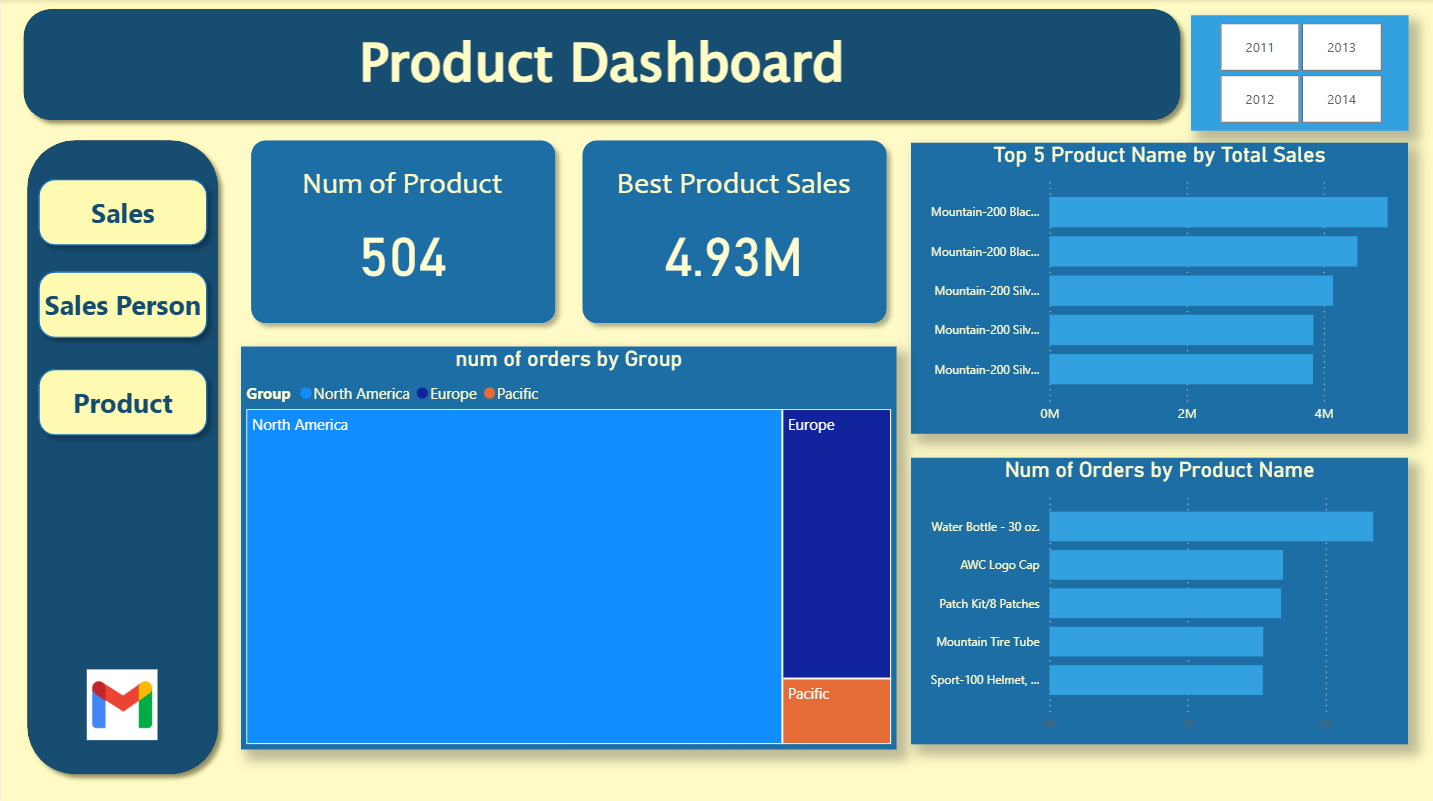

What the dashboard file says about the page in this screenshot:
{"tool":"powerbi","page":{"name":"Product","canvas":[1280,720],"ordinal":2},"visuals":[{"type":"shape","box":[11.4,0,1051.4,117.1],"z":0},{"type":"shape","box":[214.3,117.1,290,181.4],"z":0,"group":"g1"},{"type":"shape","box":[510,117.1,290,181.4],"z":0,"group":"g2"},{"type":"shape","box":[14.3,117.1,188.6,584.3],"z":1000},{"type":"slicer","fields":{"Values":["Date.Year"]},"box":[1062.9,14.3,194.3,102.9],"z":2000},{"type":"group","id":"g1","title":"Group 2","box":[214.3,117.1,290,181.4],"z":3000},{"type":"clusteredBarChart","title":"Top 5 Product Name by Total Sales","fields":{"Category":["vw_DIM_Product.ProductName"],"Y":["vw_Fact_OrderDetails.Total Sales"]},"box":[812.9,128.6,444.3,260],"z":4000},{"type":"group","id":"g2","title":"Group 2","box":[510,117.1,290,181.4],"z":5000},{"type":"treemap","fields":{"Group":["vw_DIM_Territory.Group","vw_DIM_SalesPerson.TerritoryName"],"Values":["vw_Fact_OrderDetails.num of orders"]},"box":[214.3,310,585.7,360],"z":6000},{"type":"clusteredBarChart","title":"Num of Orders by Product Name","fields":{"Category":["vw_DIM_Product.ProductName"],"Y":["vw_Fact_OrderDetails.num of orders"]},"box":[812.9,410,444.3,255.7],"z":7000},{"type":"shape","box":[24.3,151.4,168.6,77.1],"z":8000},{"type":"shape","box":[24.3,234.3,168.6,77.1],"z":9000},{"type":"shape","box":[24.3,321.4,168.6,77.1],"z":10000},{"type":"card","title":"Num of Product","fields":{"Values":["vw_DIM_Product.Num of Product"]},"box":[242.9,147.1,230,122.9],"z":11000,"group":"g1"},{"type":"card","title":"Best Product Sales","fields":{"Values":["vw_DIM_Product.Best Product Sales"]},"box":[538.6,147.1,230,122.9],"z":11000,"group":"g2"},{"type":"image","box":[61.4,594.3,94.3,72.9],"z":11000}]}

Visuals, with their boxes in screenshot pixels (x1, y1, x2, y2), scaled from the page's 1280x720 canvas onto the 1433x801 screenshot:
shape: x1=13 y1=0 x2=1190 y2=130
shape: x1=240 y1=130 x2=565 y2=332
shape: x1=571 y1=130 x2=896 y2=332
shape: x1=16 y1=130 x2=227 y2=780
slicer - Date.Year: x1=1190 y1=16 x2=1407 y2=130
"Group 2" group: x1=240 y1=130 x2=565 y2=332
"Top 5 Product Name by Total Sales" clusteredBarChart: x1=910 y1=143 x2=1407 y2=432
"Group 2" group: x1=571 y1=130 x2=896 y2=332
treemap - vw_DIM_Territory.Group x vw_DIM_SalesPerson.TerritoryName: x1=240 y1=345 x2=896 y2=745
"Num of Orders by Product Name" clusteredBarChart: x1=910 y1=456 x2=1407 y2=741
shape: x1=27 y1=168 x2=216 y2=254
shape: x1=27 y1=261 x2=216 y2=346
shape: x1=27 y1=358 x2=216 y2=443
"Num of Product" card: x1=272 y1=164 x2=529 y2=300
"Best Product Sales" card: x1=603 y1=164 x2=860 y2=300
image: x1=69 y1=661 x2=174 y2=742
